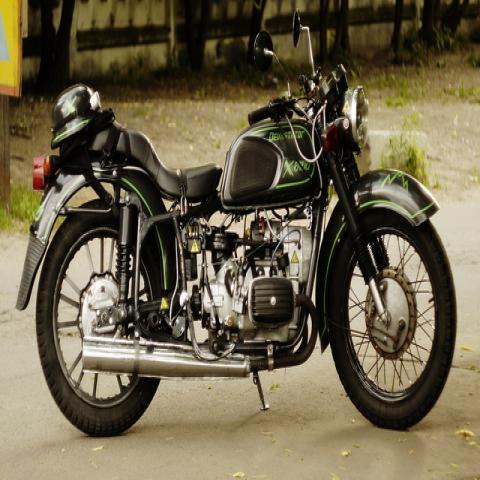motorcycle: (18, 5, 459, 442)
